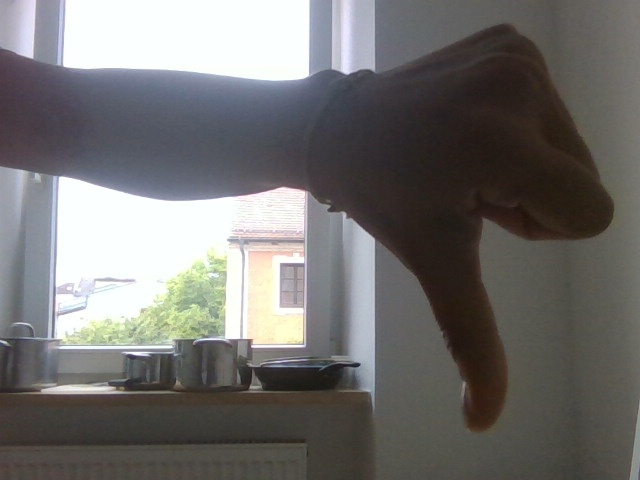Thumbs down: (306, 22, 622, 440)
